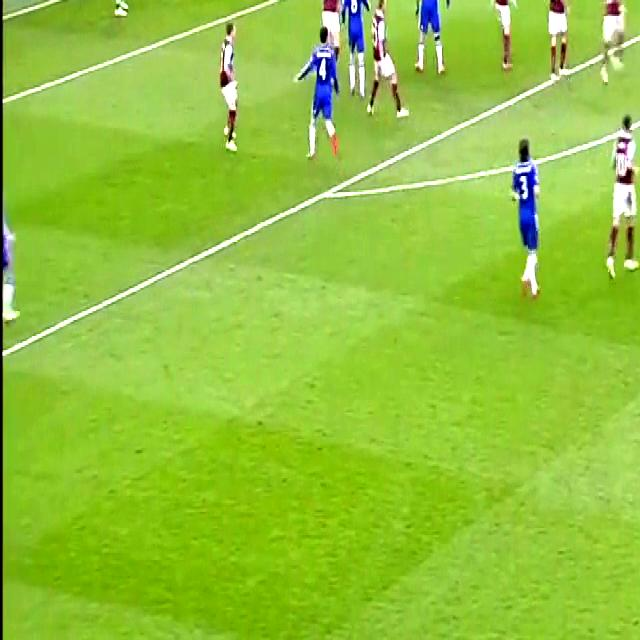goalkeeper: (107, 0, 135, 18)
soccer-player: (504, 119, 552, 302), (599, 98, 640, 288), (294, 26, 345, 167), (366, 0, 408, 128), (213, 9, 248, 162), (590, 0, 632, 96), (410, 0, 453, 80), (335, 0, 368, 100), (543, 0, 575, 92), (482, 0, 517, 80), (312, 0, 344, 75), (544, 0, 577, 9)
